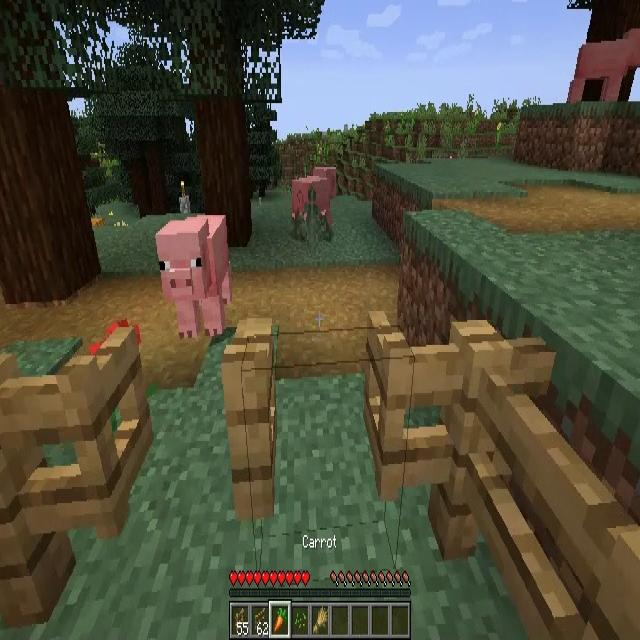pig: (158, 218, 231, 338), (563, 8, 639, 105), (292, 171, 334, 233)
